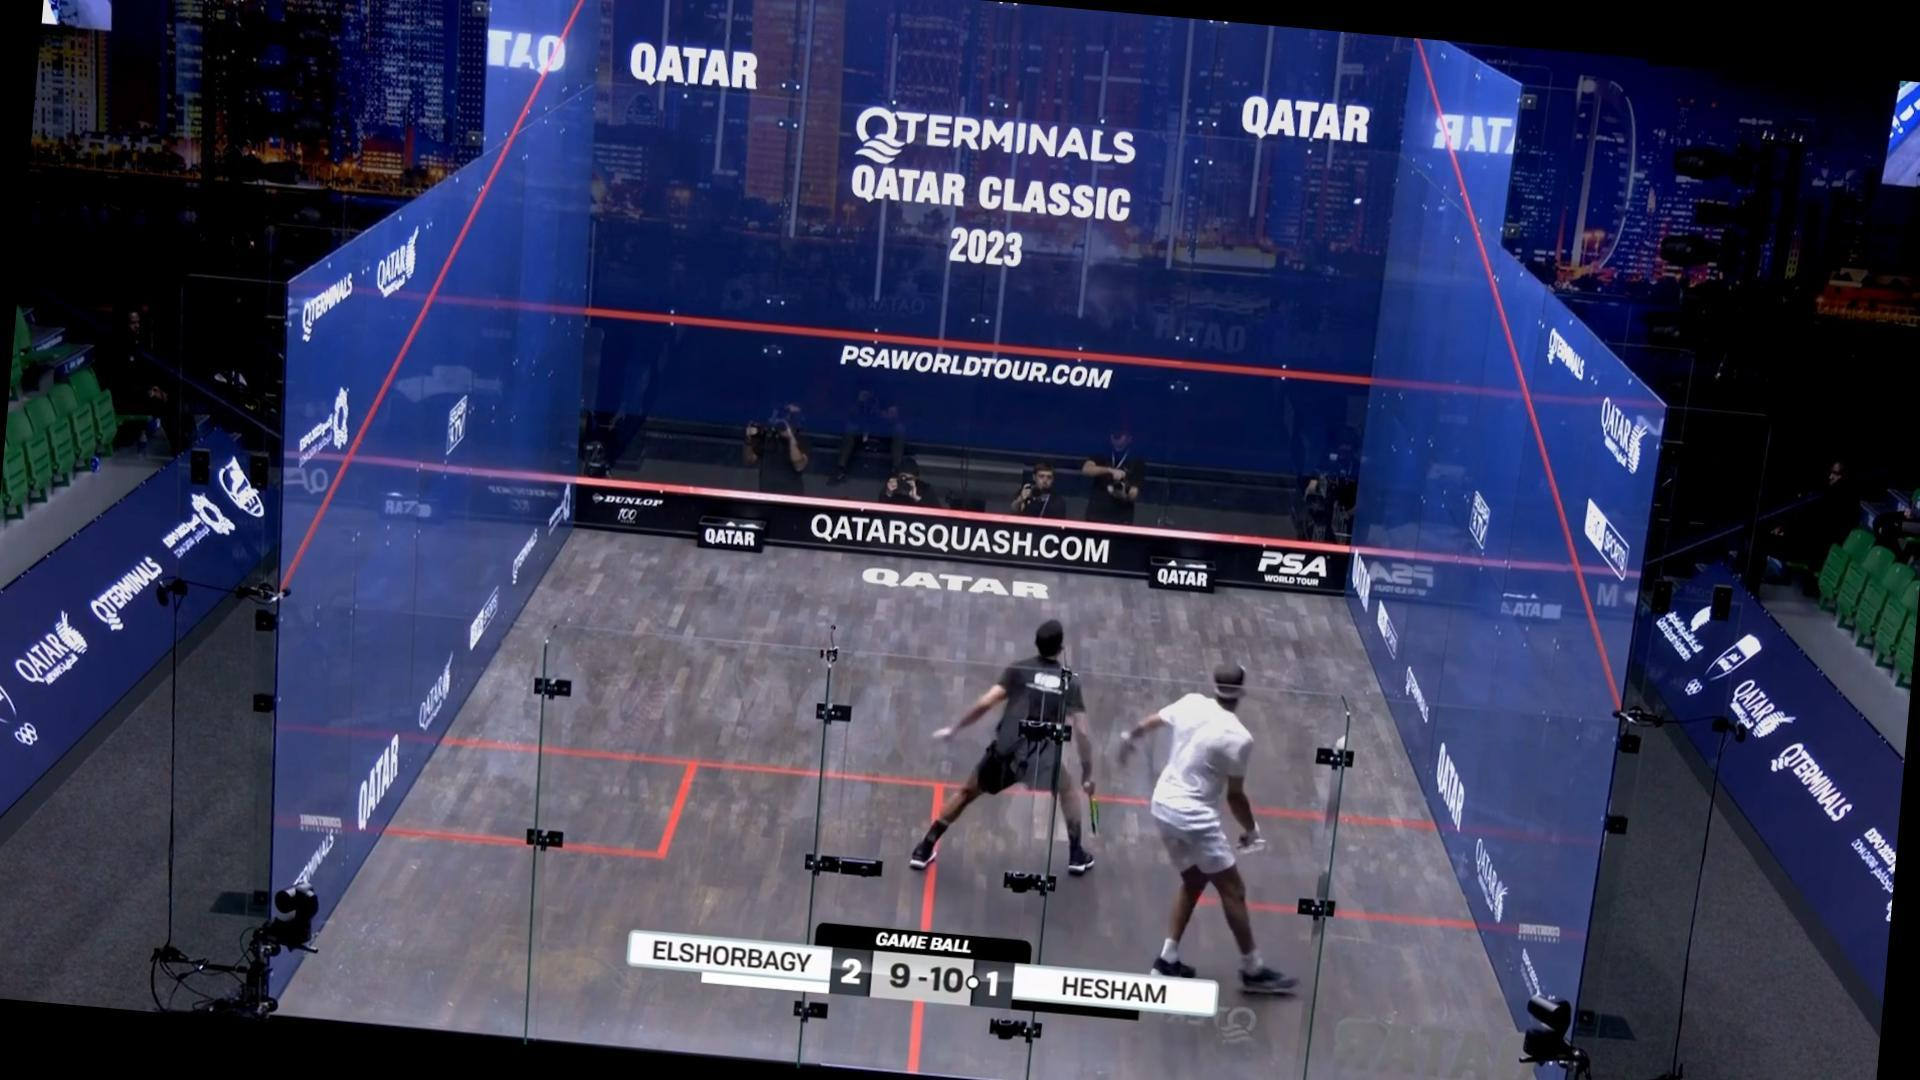Squash-Ball: (1345, 190, 1371, 215)
